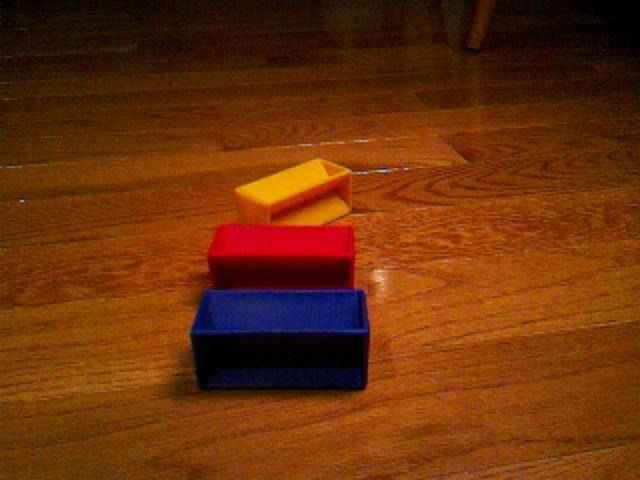blue: (190, 287, 371, 392)
red: (207, 222, 357, 290)
yellow: (233, 156, 354, 226)
